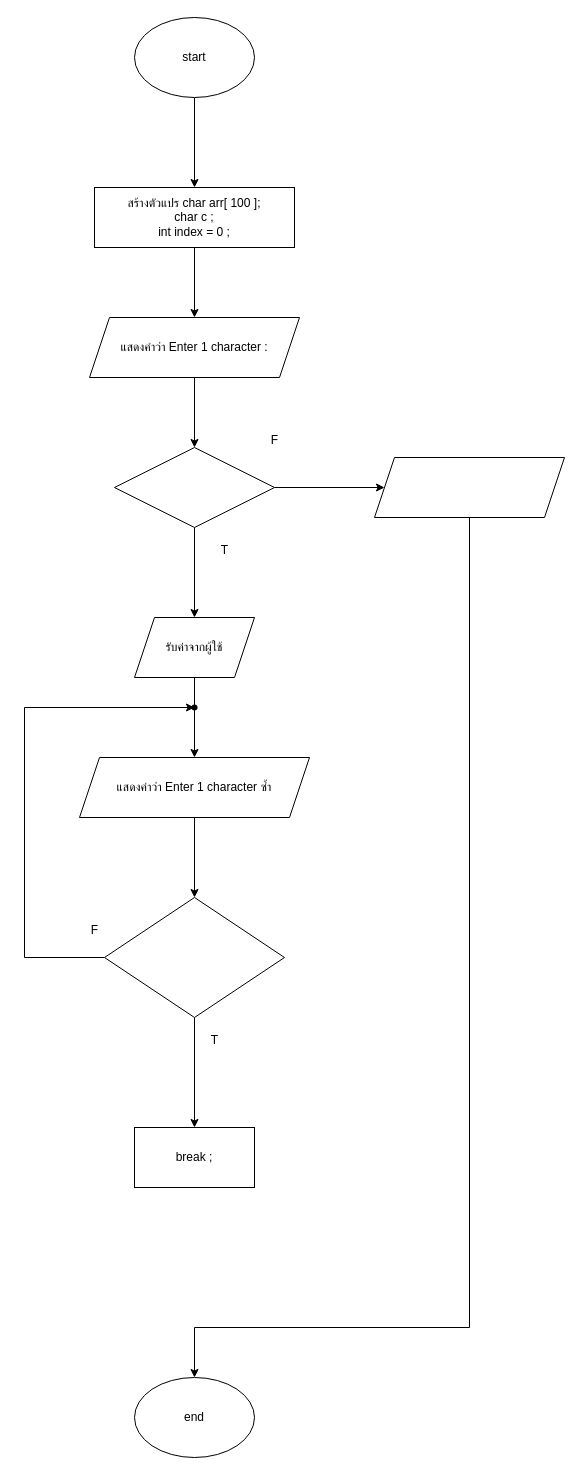
This 582x1475 diagram has some shape labels left out. The box of each missing label's shape, as (x1, y1, x2, y2) in pixels:
c != 'y' || c != 'Y' ?: (114, 446, 274, 528)
c == 'y' || c == 'Y' ?: (104, 896, 284, 1018)
แสดงคำว่า String :: (374, 456, 564, 518)
